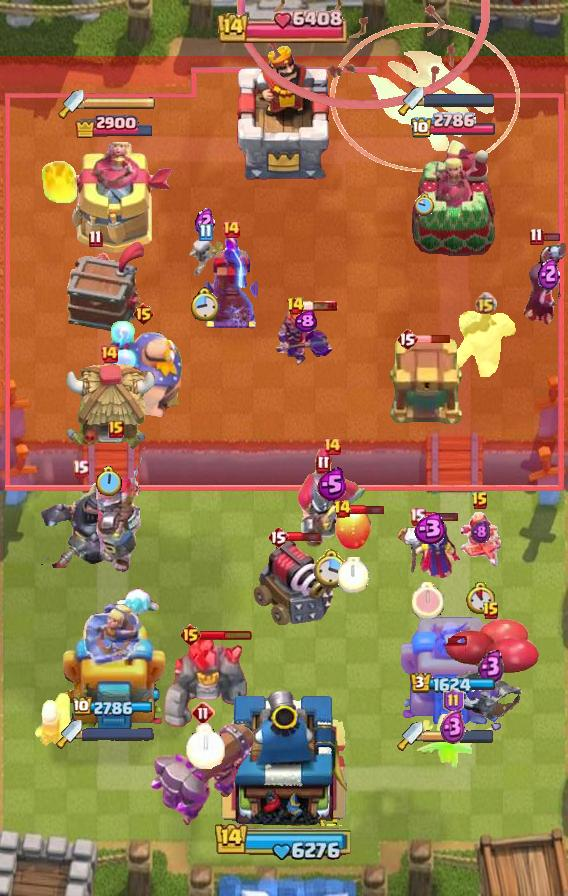axe: (394, 519, 462, 581)
bar: (59, 595, 169, 731), (55, 142, 173, 256), (401, 611, 505, 731), (409, 138, 497, 256)
bat: (116, 586, 162, 622)
bomb: (385, 338, 463, 426)
cannoneer-tower: (162, 634, 248, 730)
clock: (214, 821, 354, 861), (217, 9, 351, 43)
dart-goblin: (66, 241, 148, 335)
electro-spirit: (409, 513, 446, 544), (317, 467, 347, 502), (478, 649, 505, 684), (440, 711, 466, 745), (538, 256, 560, 290), (195, 206, 215, 236), (294, 310, 317, 334), (470, 520, 489, 544)
elixir: (185, 723, 225, 769), (314, 548, 350, 589), (412, 581, 444, 619), (338, 557, 369, 593), (190, 287, 220, 321), (465, 582, 494, 614), (97, 466, 123, 498), (415, 193, 435, 216)
emote: (199, 629, 252, 641), (350, 503, 385, 516), (286, 529, 321, 542), (302, 300, 338, 312), (424, 511, 460, 522), (417, 334, 452, 344), (542, 232, 562, 242)
furnace: (149, 720, 257, 830)
golem: (251, 537, 337, 629)
heal-spirit: (187, 236, 223, 276)
hog: (333, 507, 373, 551)
ice-spirit-evolution-symbol: (201, 234, 261, 330)
ice-wizard: (330, 23, 520, 173)
king-tower: (214, 684, 354, 826), (230, 43, 338, 181)
king-tower-bar: (424, 93, 496, 107), (84, 97, 156, 111), (82, 727, 154, 741), (423, 729, 495, 743)
little-prince: (99, 319, 187, 419)
poison: (409, 704, 497, 778)
prince: (62, 362, 156, 452)
rage: (453, 307, 517, 377)
rascal-boy: (522, 240, 568, 328)
royal-guardian: (40, 476, 120, 568)
royal-recruit-evolution: (440, 617, 542, 725)
selected: (411, 112, 498, 140), (73, 113, 154, 139), (410, 672, 496, 694), (73, 698, 155, 719)
skeleton-barrel: (236, 0, 492, 112)
skeleton-dragon: (458, 512, 502, 572)
tesla-evolution: (274, 304, 336, 368)
text: (191, 701, 215, 725), (132, 302, 155, 326), (178, 623, 201, 647), (444, 688, 465, 714), (475, 293, 498, 316), (396, 327, 418, 351), (267, 525, 289, 549), (221, 219, 241, 239), (99, 344, 119, 364), (322, 436, 342, 456), (287, 296, 306, 316), (333, 499, 352, 519), (471, 491, 489, 511), (482, 601, 500, 621), (71, 458, 89, 477), (409, 507, 426, 525), (108, 420, 124, 438), (199, 223, 213, 242), (529, 227, 543, 245), (89, 229, 103, 247)
tombstone: (32, 690, 74, 748)
valkyrie: (39, 157, 79, 205)
wall-breaker-evolution: (80, 436, 151, 574), (296, 446, 368, 548)
